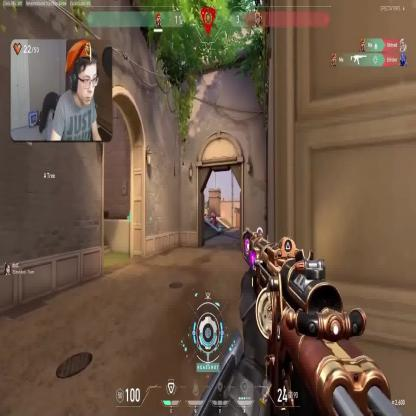enemy: (206, 207, 210, 216)
enemy_head: (208, 208, 210, 211)
